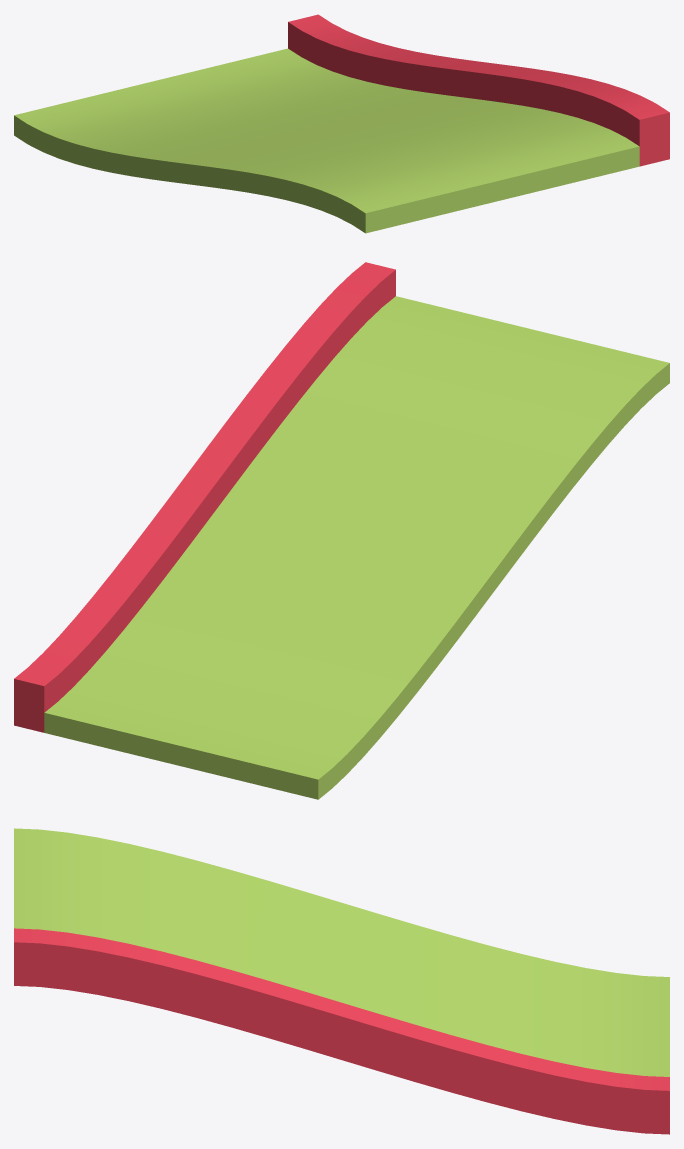
Rendered from rampLargeSide.fbx.
3 renders of one model, top to bottom at view 1: azimuth 30°, elevation 25°; view 2: azimuth 150°, elevation 25°; view 3: azimuth 270°, elevation 25°, orthographic. The views are drawn at different scales.
Visible parts, largest first — view 1: rampLargeSide; view 2: rampLargeSide; view 3: rampLargeSide.
Boxes of the visible parts, x1,y1,x2,y2 form: rampLargeSide: (14,14,669,233); rampLargeSide: (14,262,669,799); rampLargeSide: (14,828,669,1134).
Size of the model in its own units: 10 by 6.47 by 20.
